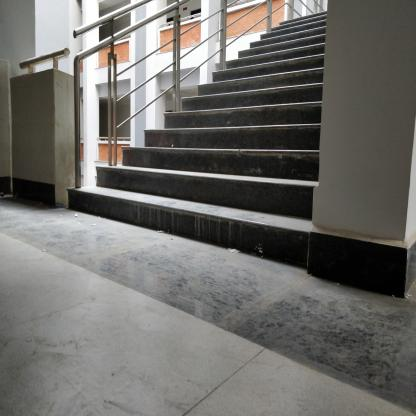stairs: (164, 111, 308, 255)
